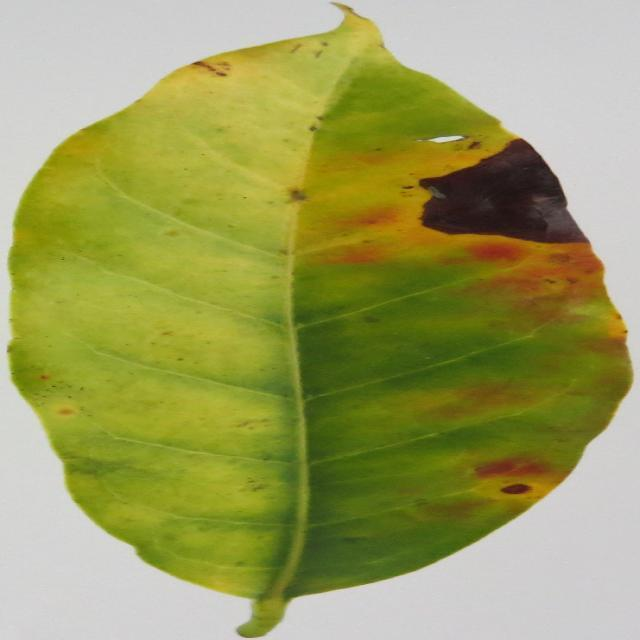DeficienciaNutricional-Fosforo: (10, 5, 630, 638)
